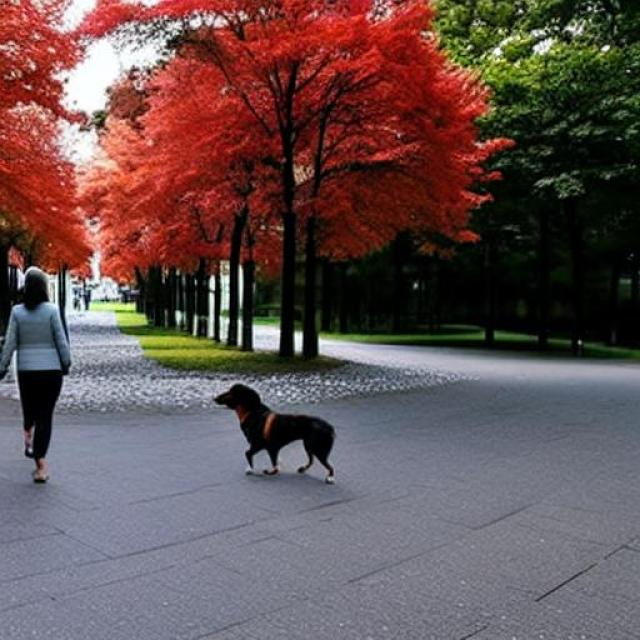Unleashed_Dog: (14, 351, 336, 485)
